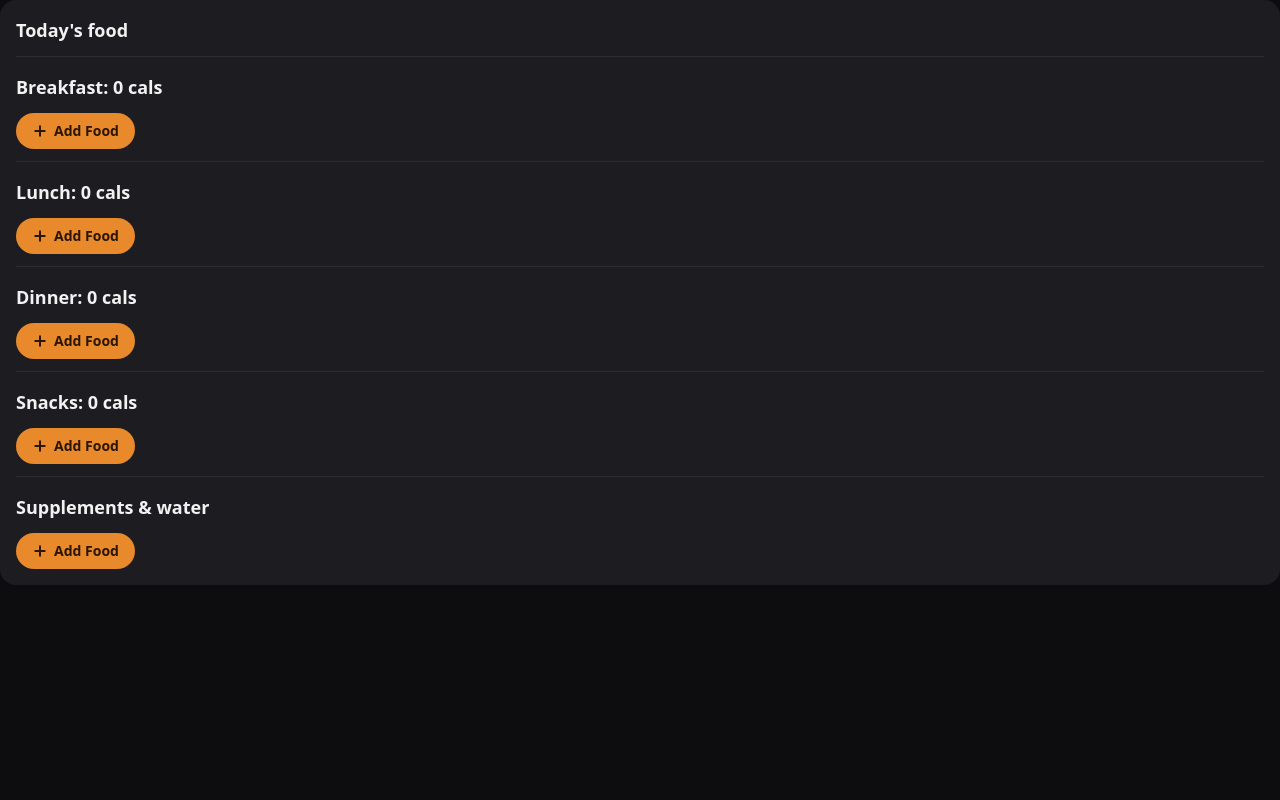
Describe it › Cancel stops waiting: the request is aborted, the words stay, nothing is logged
Click the button "Add Food" below "Snacks: 0 cals" at {"x": 75, "y": 446}, box [16,428,135,464]
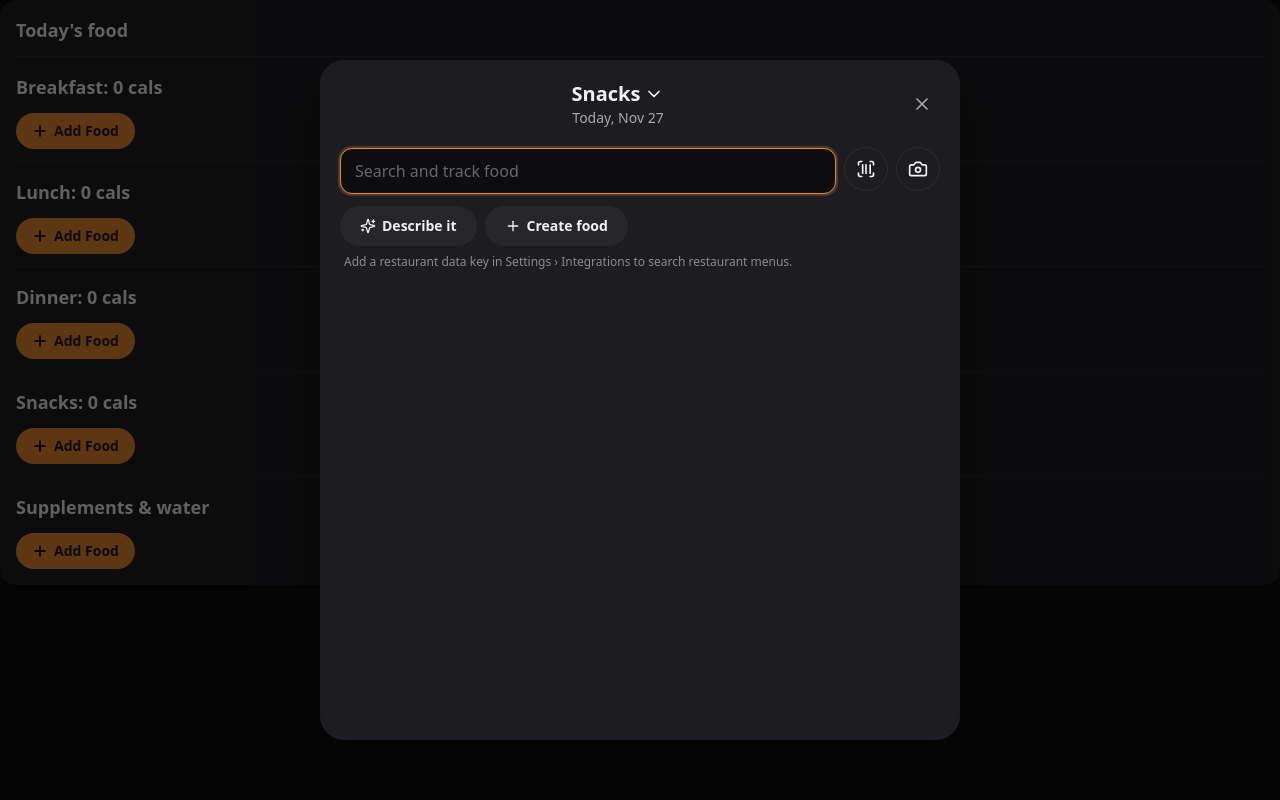
Click the button "Describe it" at {"x": 408, "y": 226}, box [340,206,476,246]
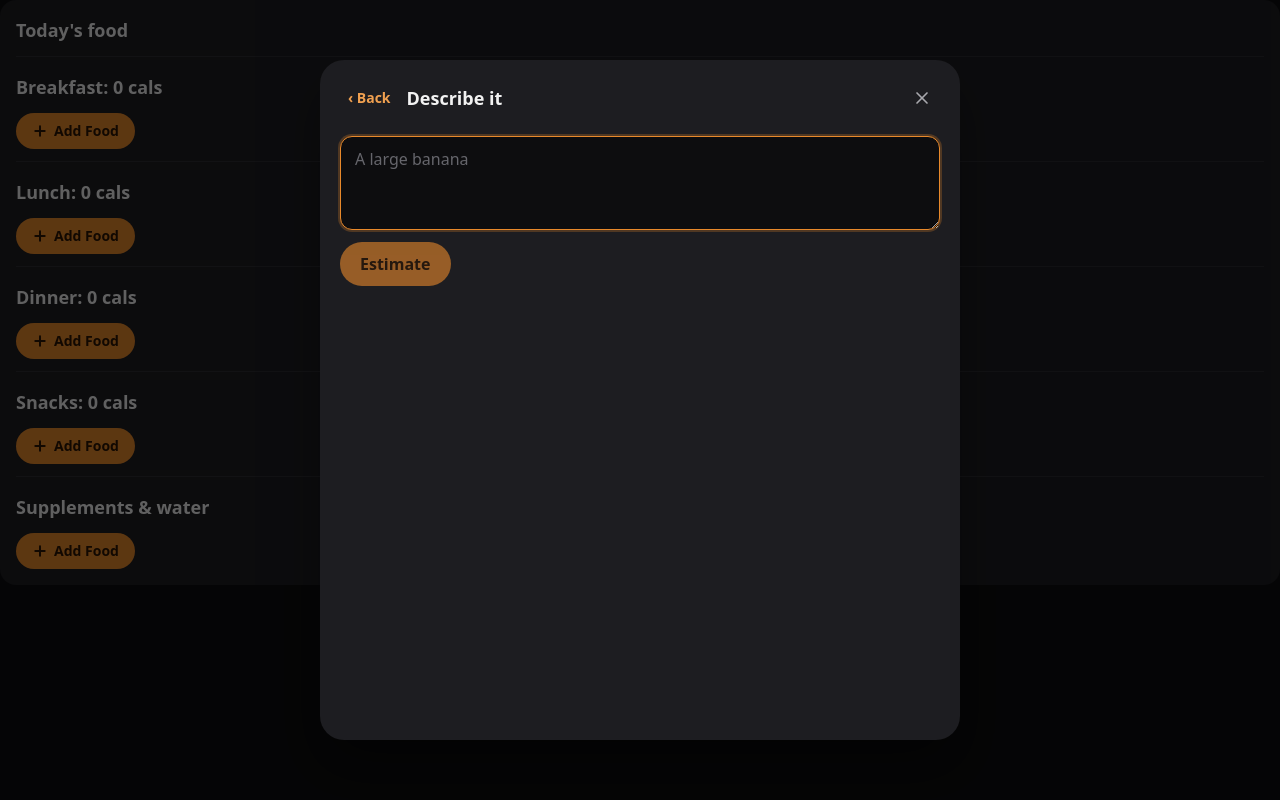
Type "cherios" into the text box named "Describe the food" at {"x": 640, "y": 183}, box [340,136,940,230]
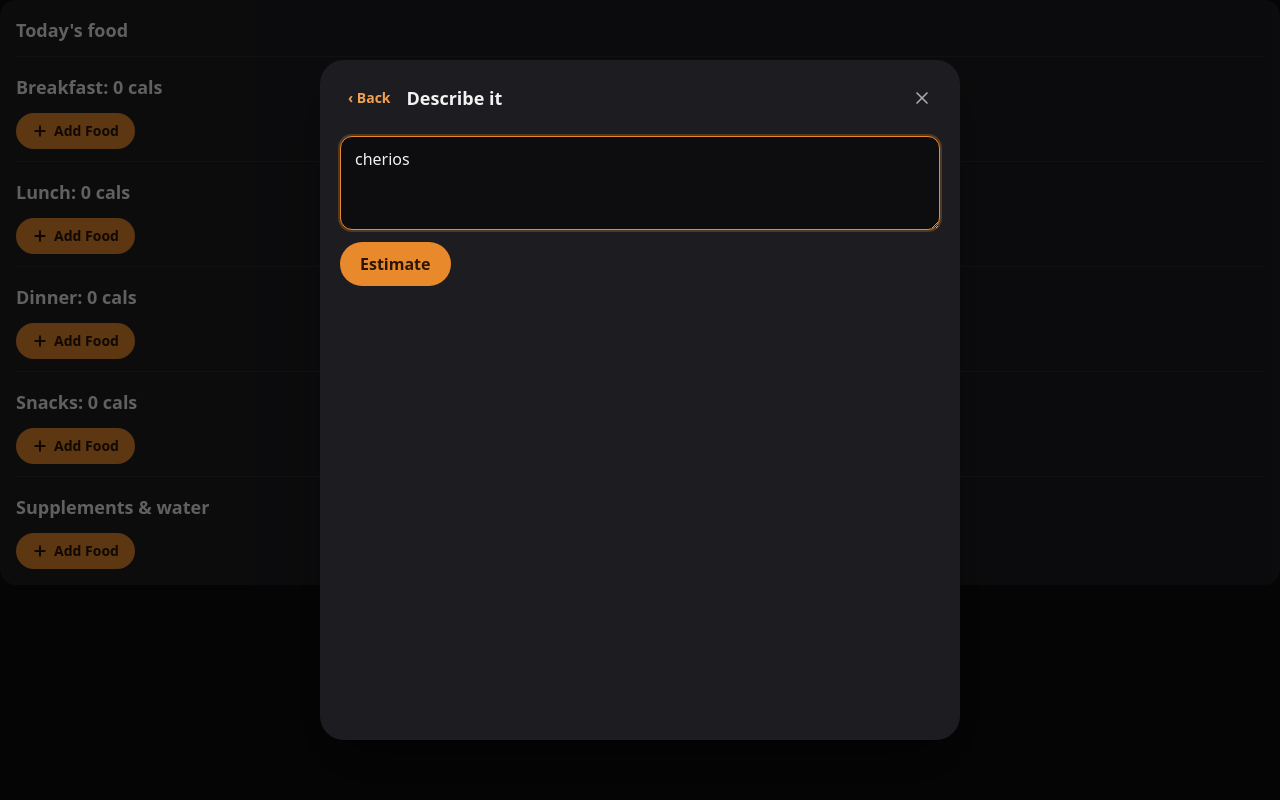
Click the button "Estimate" at {"x": 395, "y": 264}, box [340,242,450,286]
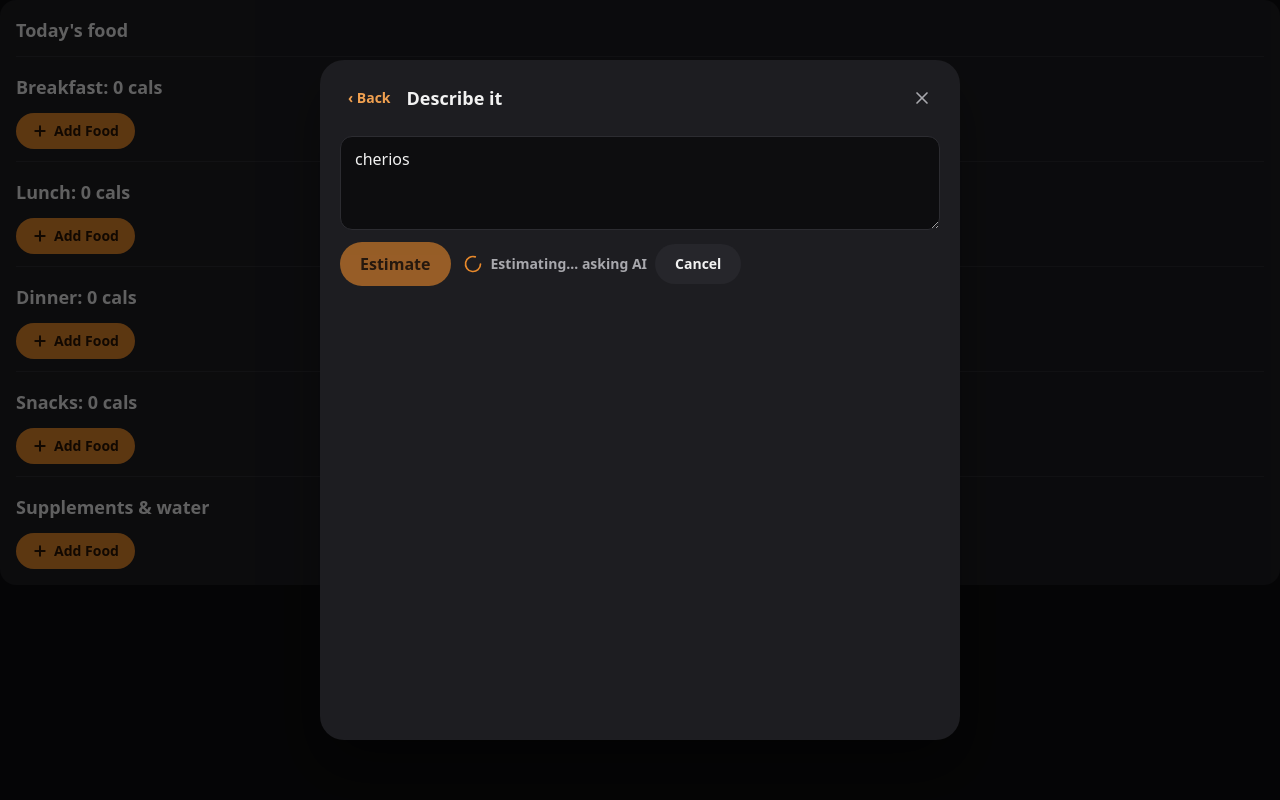
expect the message "Estimating… asking AI" is shown: met, box [462,254,647,274]
Click the button "Cancel" at {"x": 698, "y": 264}, box [655,244,741,284]
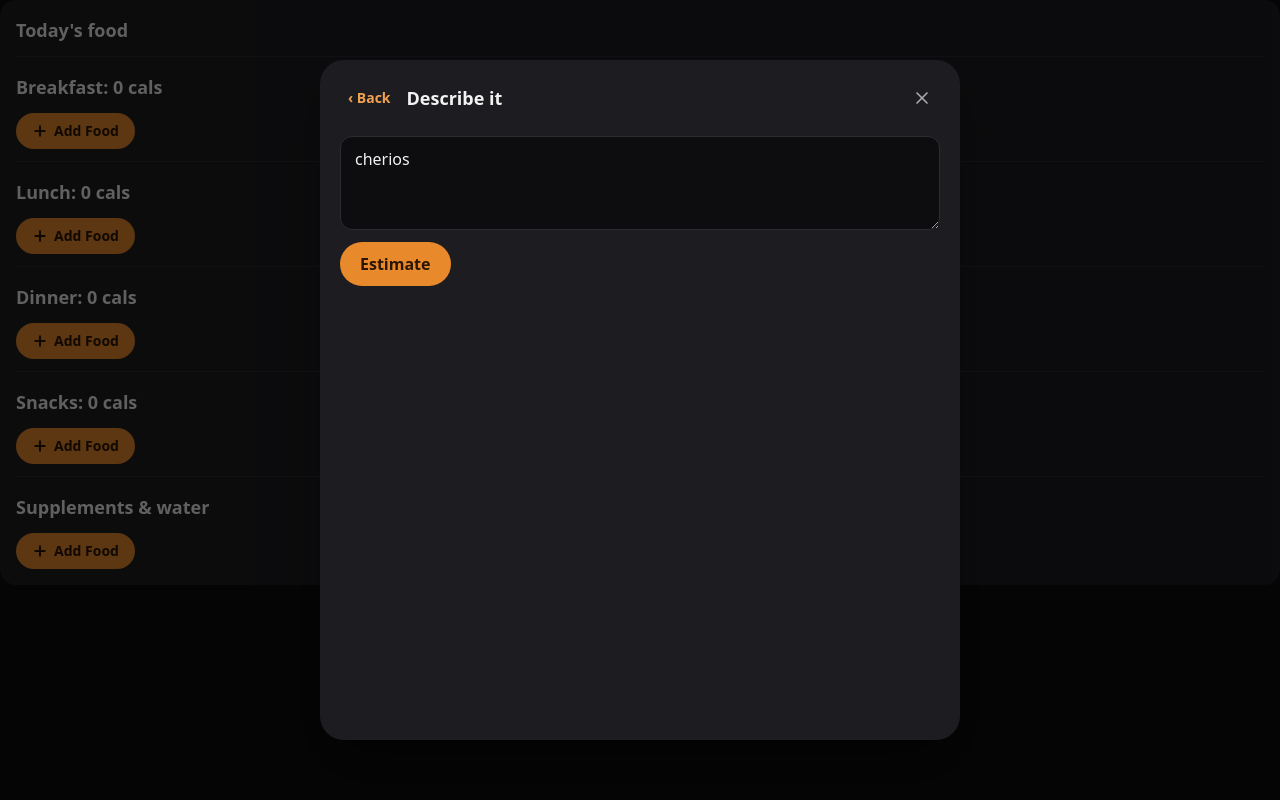
expect the message "Estimating… asking AI" is gone: met
expect the button "Estimate" is enabled: met, box [340,242,450,286]
